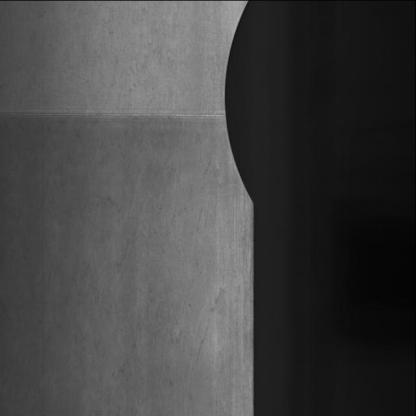crescent_gap: (218, 0, 272, 208)
silk_spot: (9, 153, 226, 398), (79, 19, 176, 93)
welding_line: (0, 102, 233, 130)
